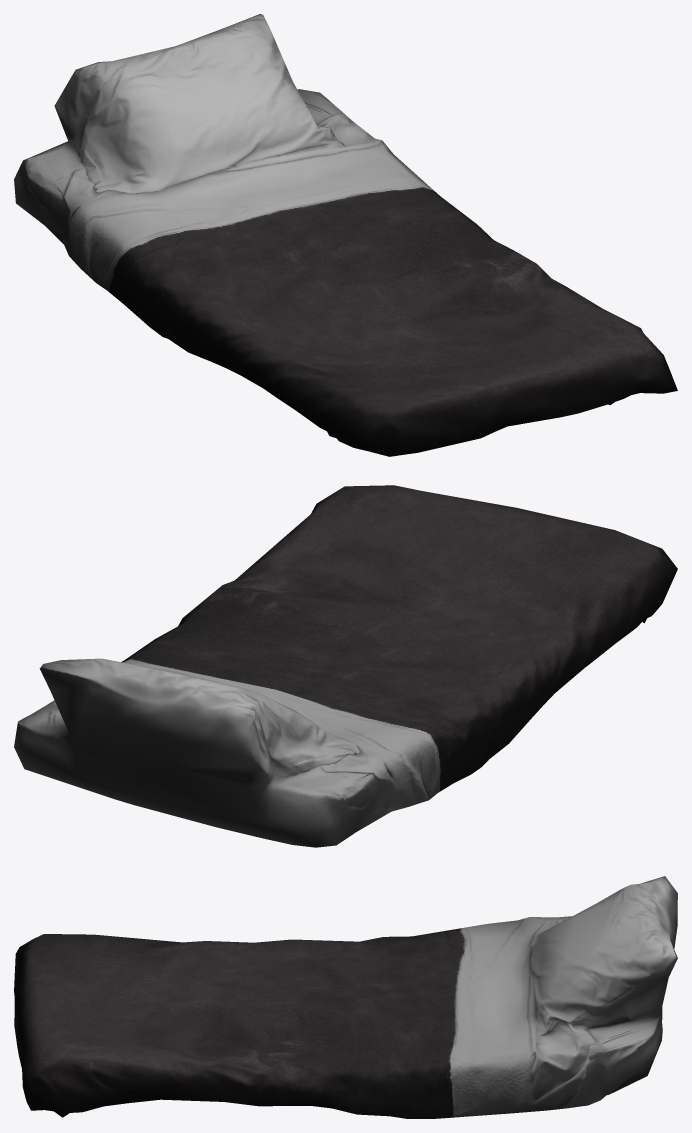
File: matrac.glb
3 views of the same model, one above another, from view 1: azimuth 30°, elevation 25°; view 2: azimuth 150°, elevation 25°; view 3: azimuth 270°, elevation 25° (orthographic). The views are drawn at different scales.
Parts seen in each view (by area): view 1: t_combined-material; view 2: t_combined-material; view 3: t_combined-material.
Boxes of the visible parts, x1=… form: t_combined-material: x1=14, y1=14, x2=677, y2=456; t_combined-material: x1=14, y1=485, x2=677, y2=847; t_combined-material: x1=14, y1=876, x2=677, y2=1118.
Bounding box in the file's own units: 2.65 × 1.13 × 4.93.
1 material, 1 textured.
